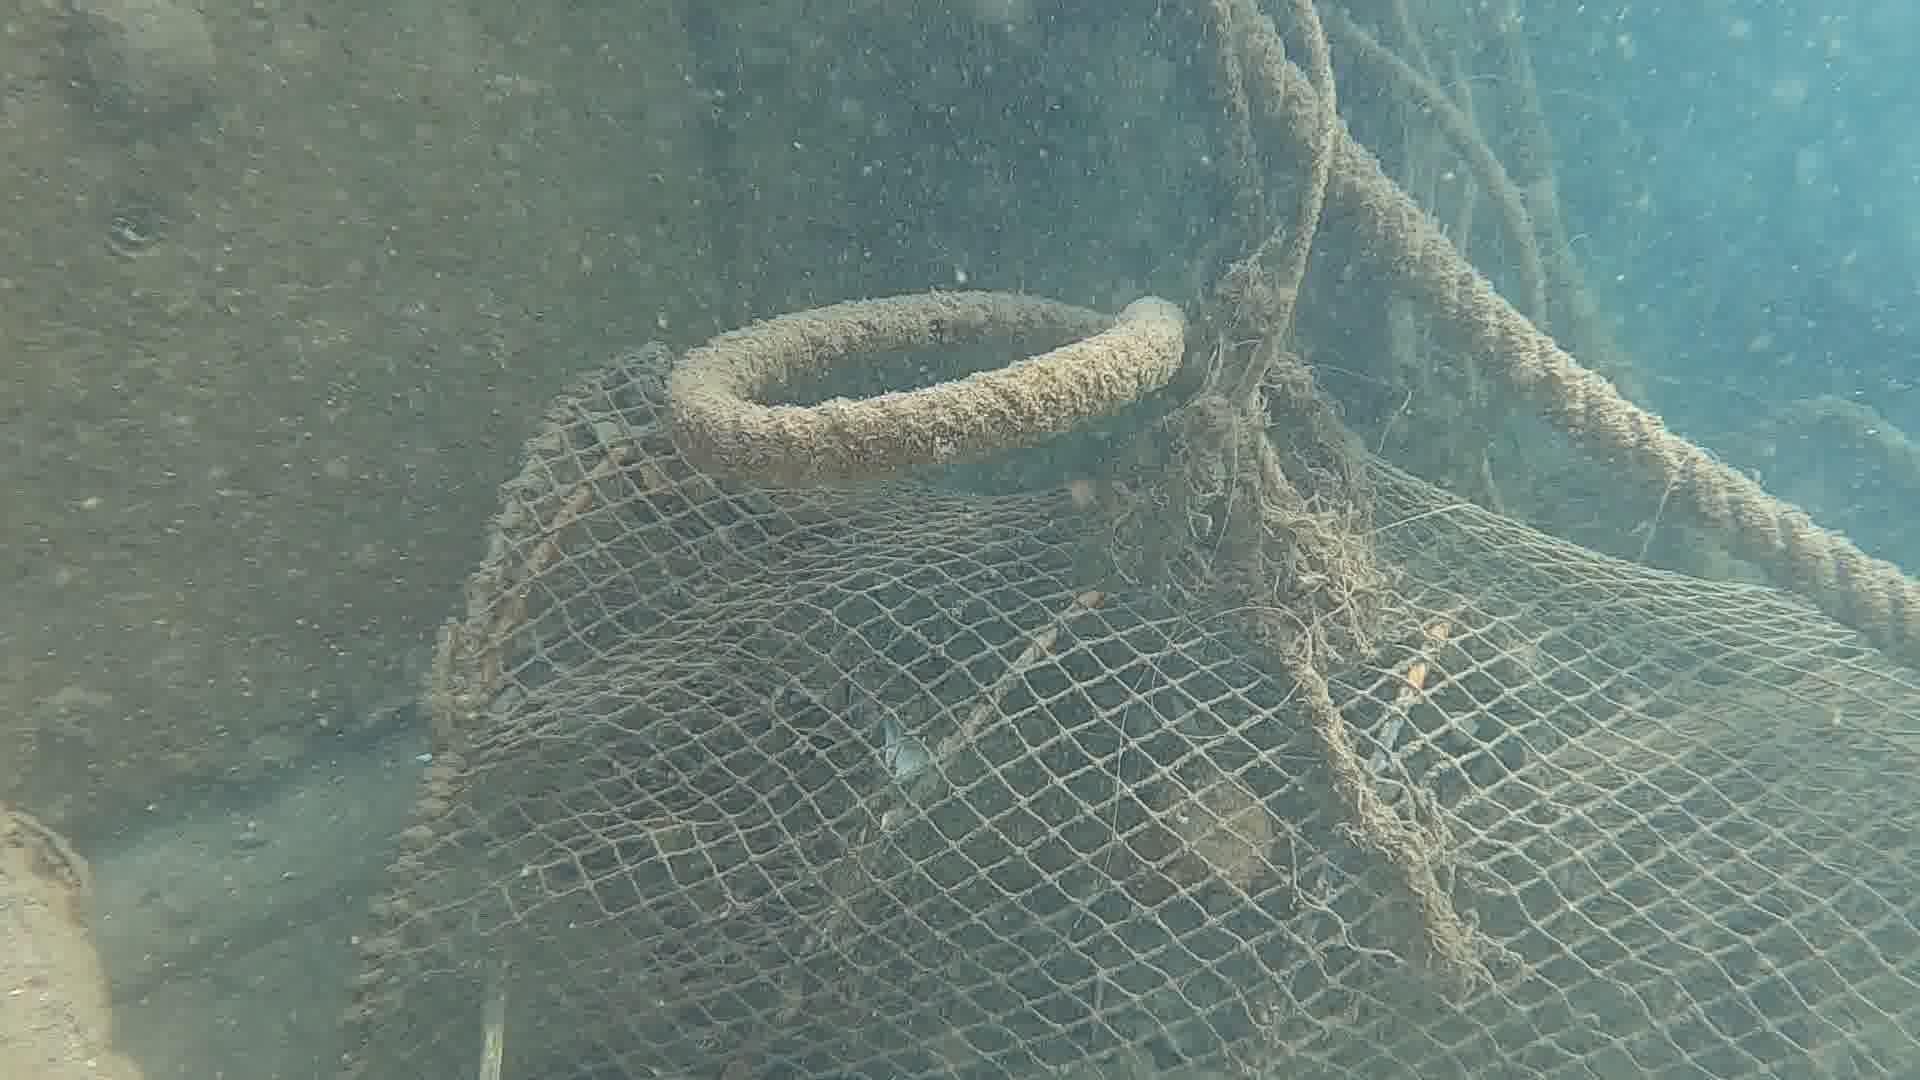bundle of ropes: (1240, 0, 1920, 670)
rope: (673, 290, 1185, 468)
spring fish trap: (335, 342, 1920, 1080)
